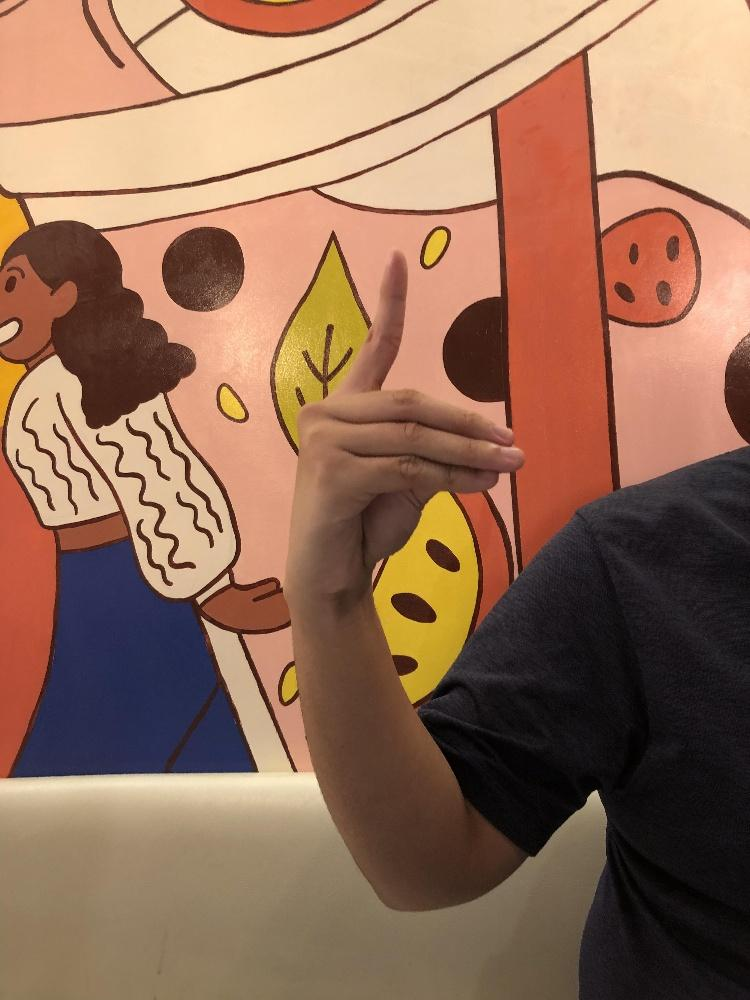d: (279, 246, 526, 601)
